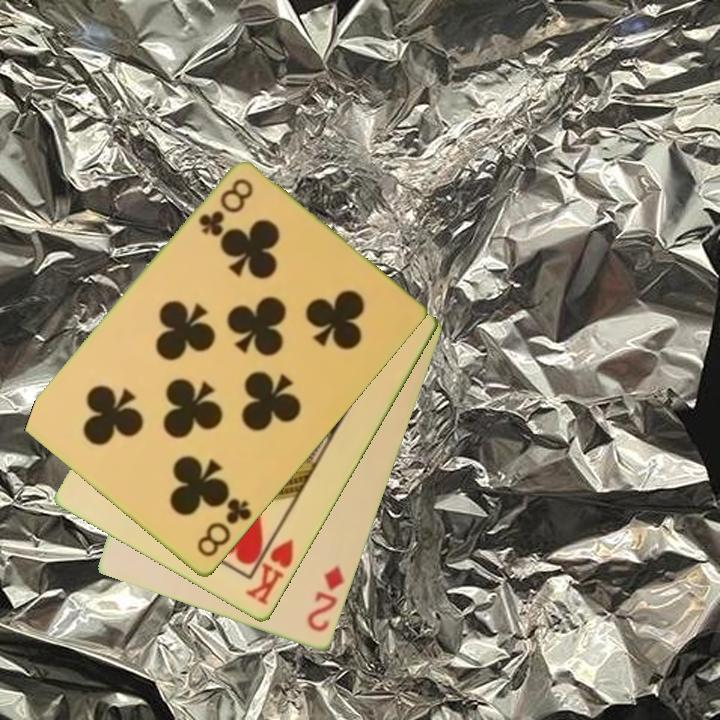2d: (303, 562, 348, 636)
8c: (193, 494, 255, 561), (194, 175, 257, 240)
Kh: (242, 526, 297, 609)
